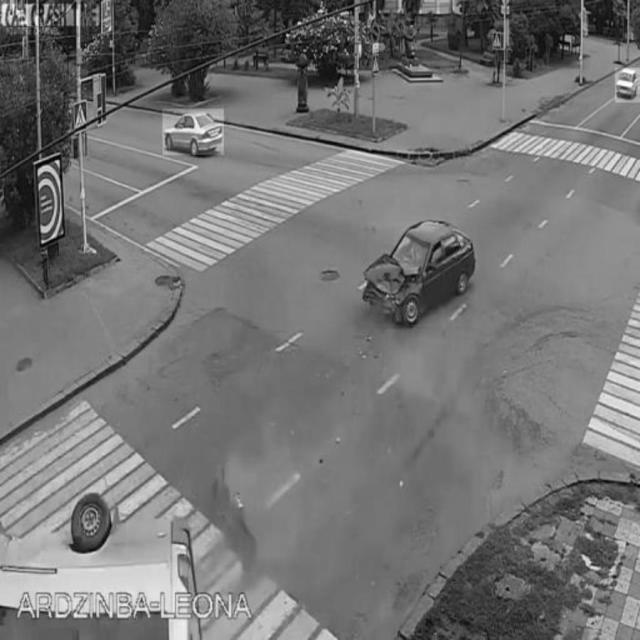vehicle: (369, 222, 477, 326), (163, 109, 224, 155), (615, 68, 640, 104)
